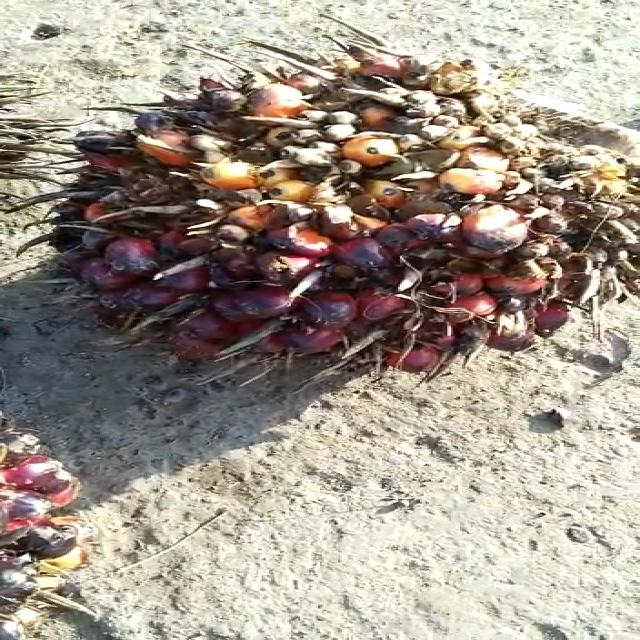palm oil: (45, 39, 640, 428)
